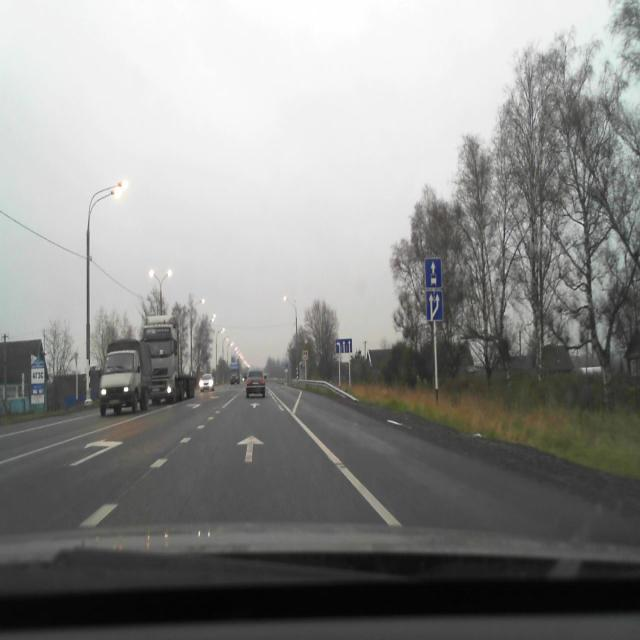road sign: (424, 258, 442, 289), (426, 291, 444, 321), (336, 339, 352, 353)
